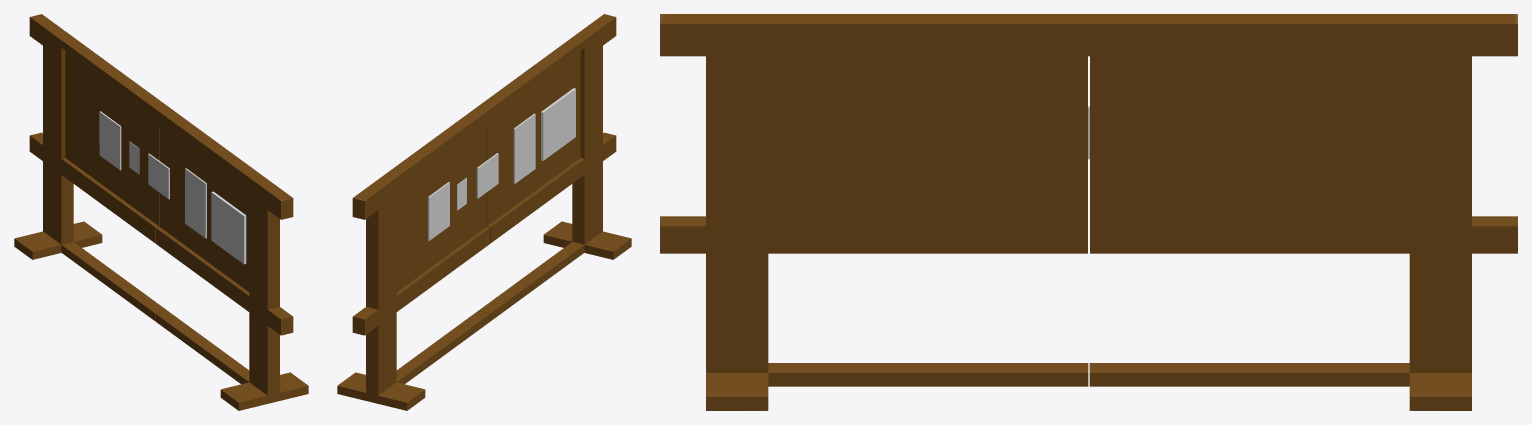
The model's file is Papan Pengumuman.fbx.
3 views of the same model, side by side, from view 1: azimuth 30°, elevation 25°; view 2: azimuth 150°, elevation 25°; view 3: azimuth 270°, elevation 25° (orthographic). The views are drawn at different scales.
Visible parts, largest first — view 1: Papan Pengumuman, Plane; view 2: Papan Pengumuman, Plane; view 3: Papan Pengumuman.
Part boxes in pixels (x1=…): Papan Pengumuman: x1=14, y1=14, x2=308, y2=410; Plane: x1=99, y1=111, x2=246, y2=264; Papan Pengumuman: x1=337, y1=14, x2=631, y2=410; Plane: x1=428, y1=88, x2=575, y2=240; Papan Pengumuman: x1=660, y1=14, x2=1517, y2=410.
Size of the model in its own units: 196 by 572 by 1225.
Materials: 1 (1 with a texture image).
